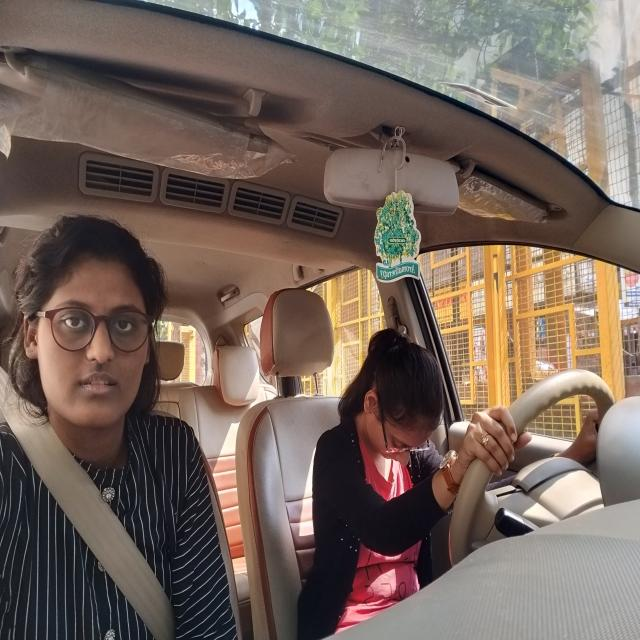drowsy: (354, 328, 446, 476)
person: (7, 210, 164, 432)
